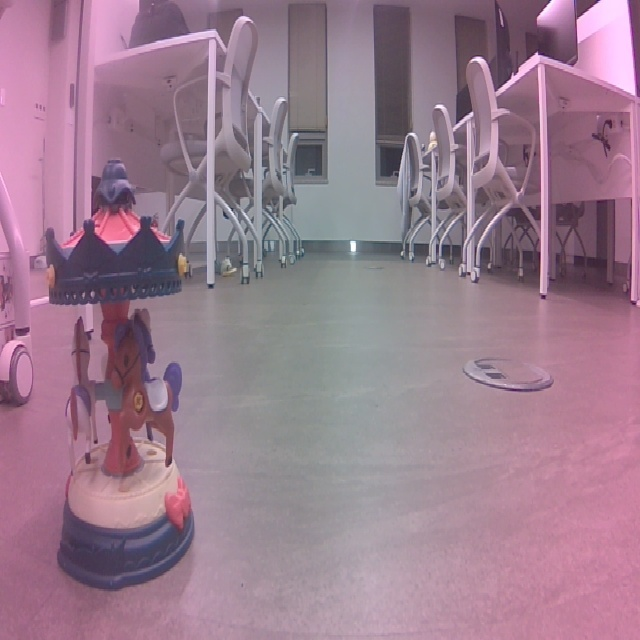목적지: (43, 145, 253, 553)
